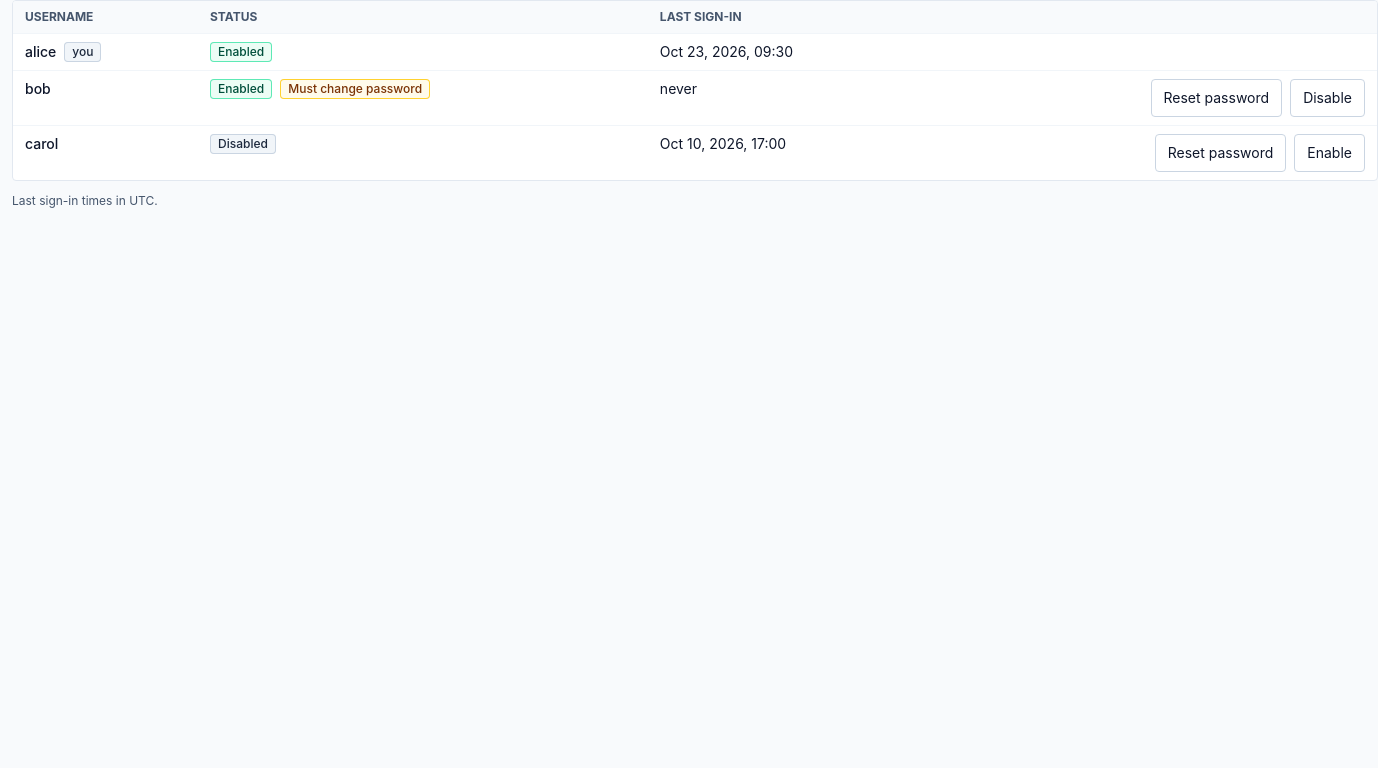
OperatorsTable: reset password › posts the new password and the current one
Click the button with aria-label "Reset the password of bob" at [1216, 98], box [1150,79,1282,117]
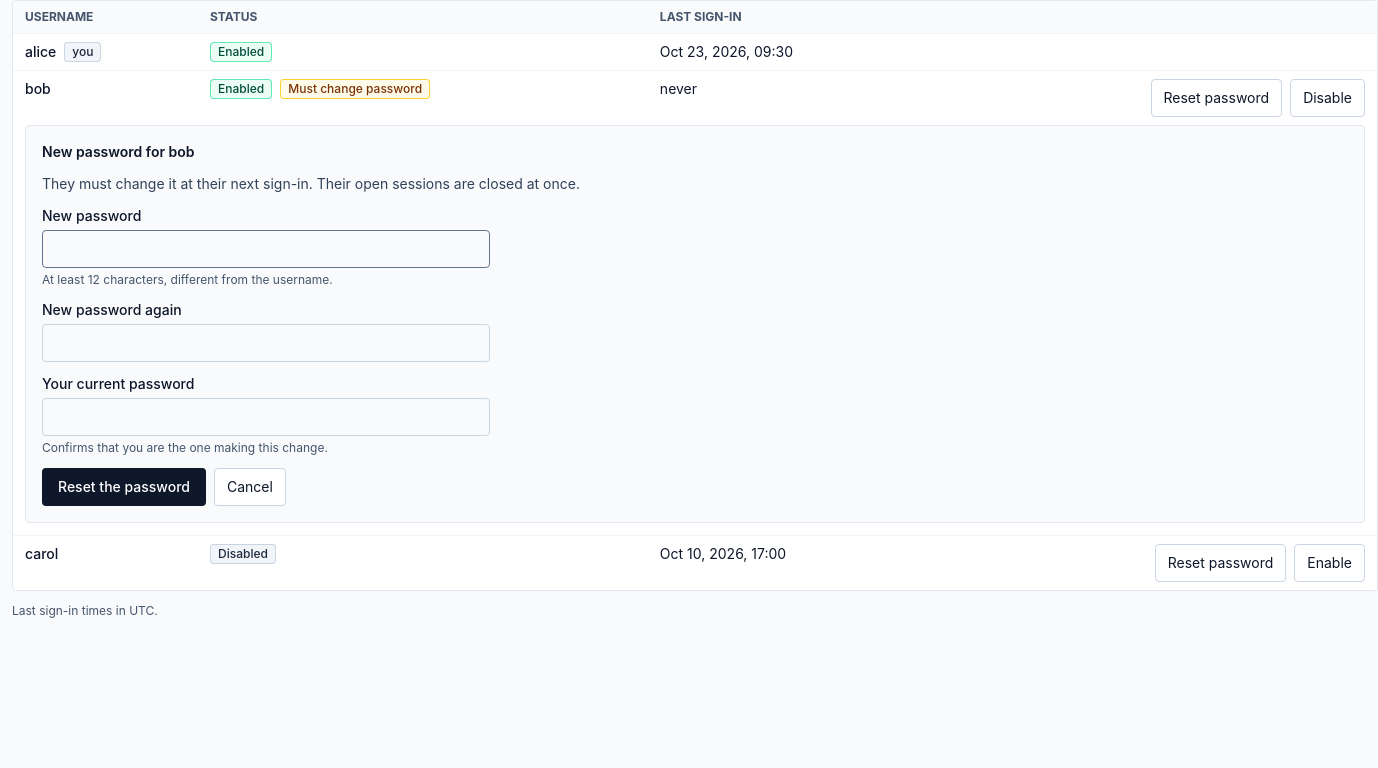
Type "correct horse battery" into the password field labelled "New password" at [266, 249], box [42,230,490,268]
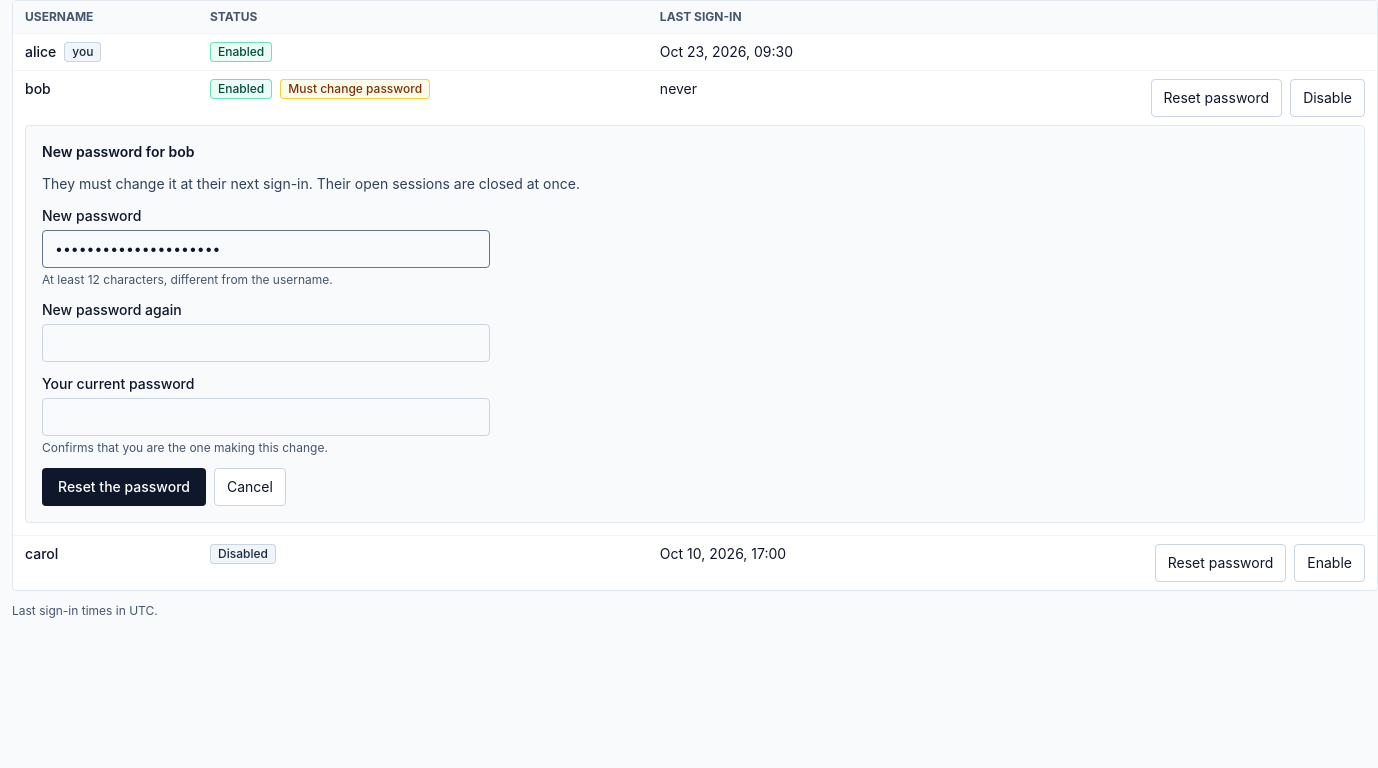
Type "correct horse battery" into the password field labelled "New password again" at [266, 343], box [42,324,490,362]
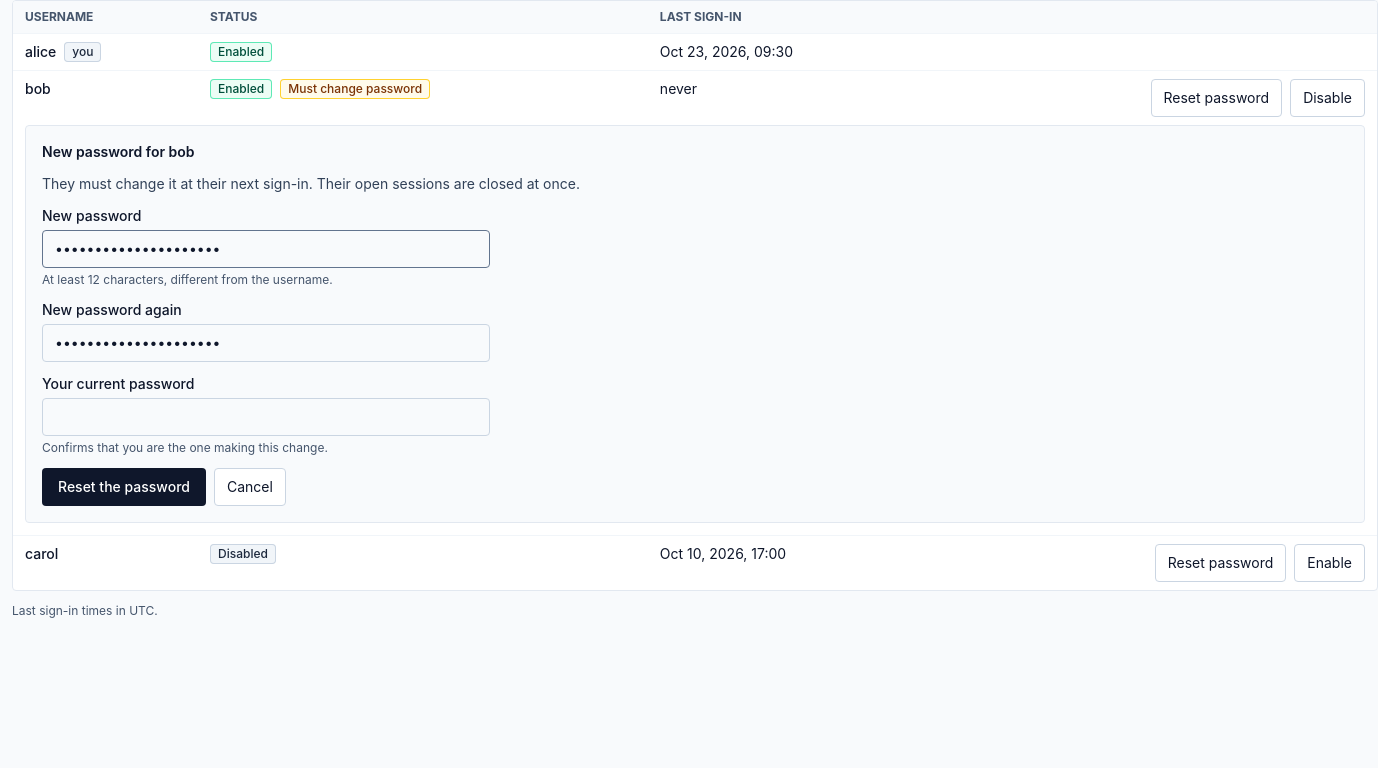
Type "my current password" into the password field labelled "Your current password" at [266, 417], box [42,398,490,436]
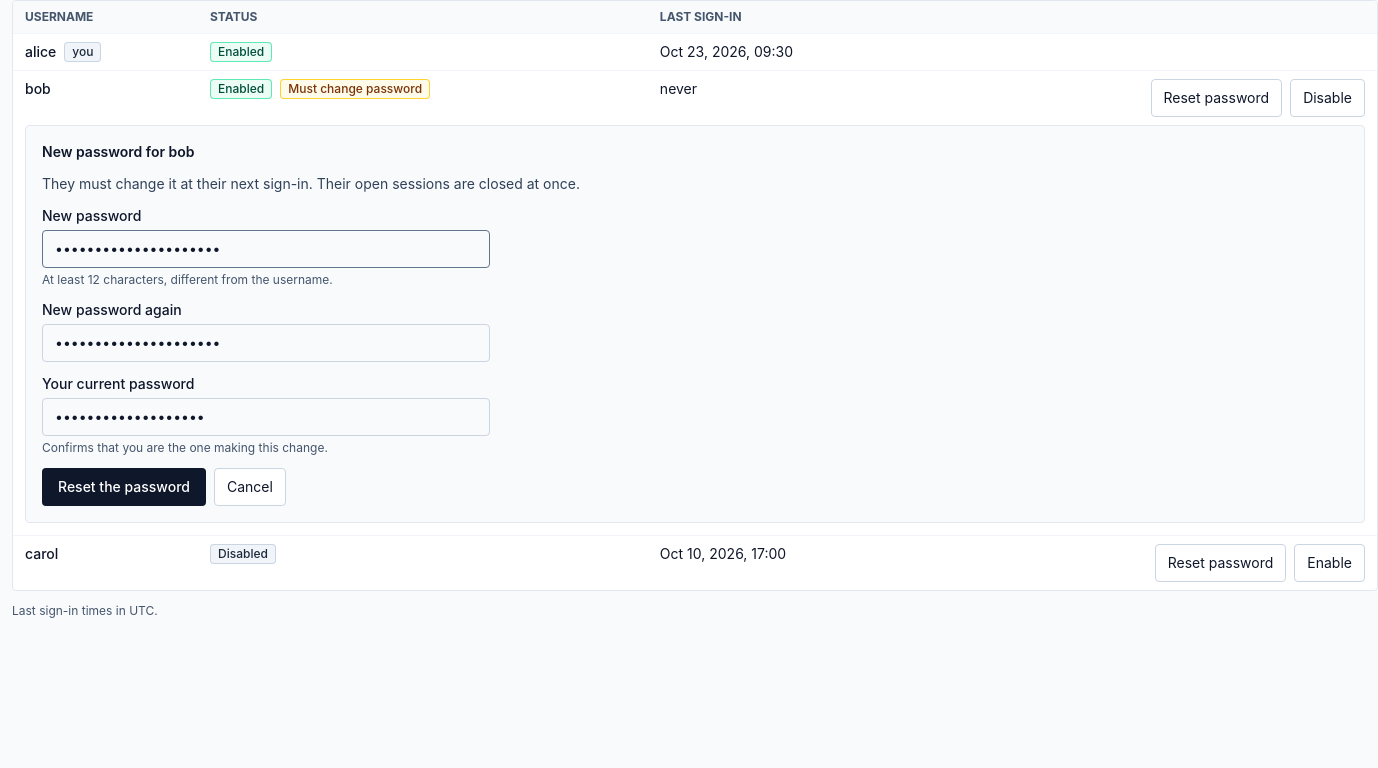
Click the button "Reset the password" at [124, 487], box [42,468,206,506]
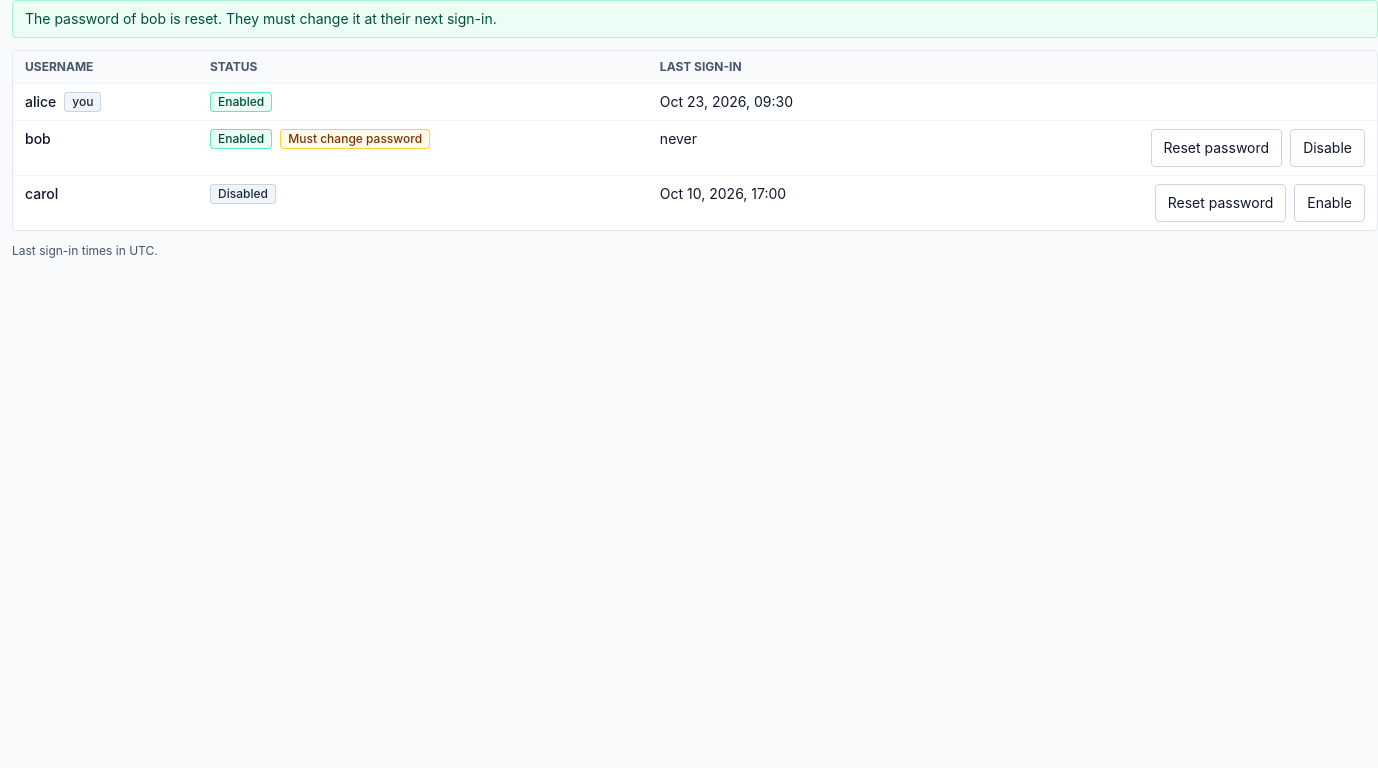
Expected: the message shows "The password of bob is reset.", [25,10,497,27]
